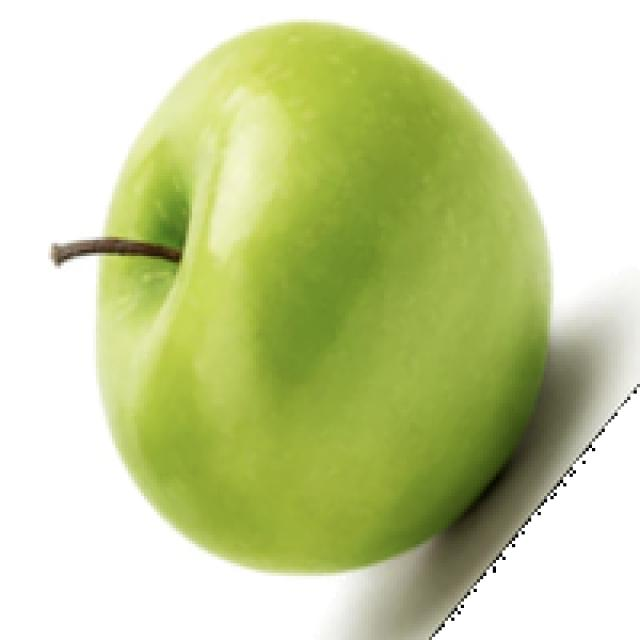apple: (45, 16, 637, 637)
